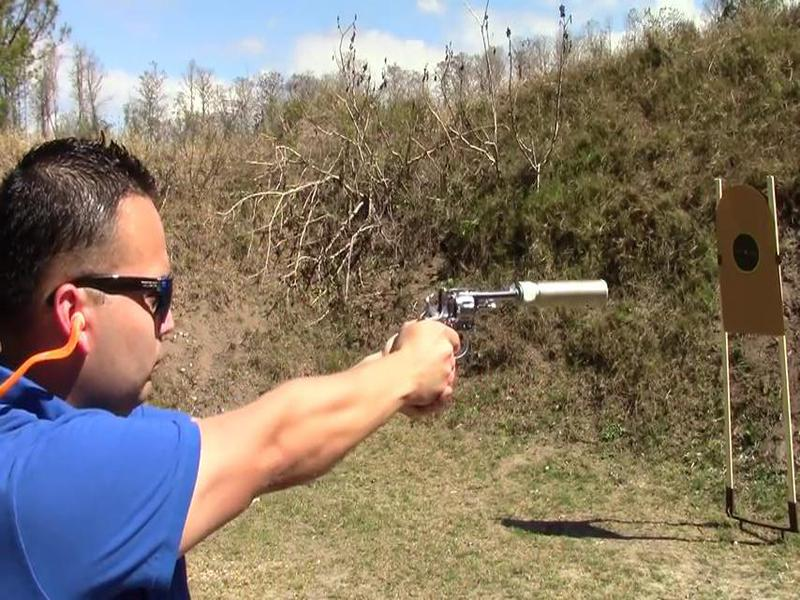Revolver: (409, 266, 520, 364)
